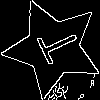T: (28, 23, 83, 70)
